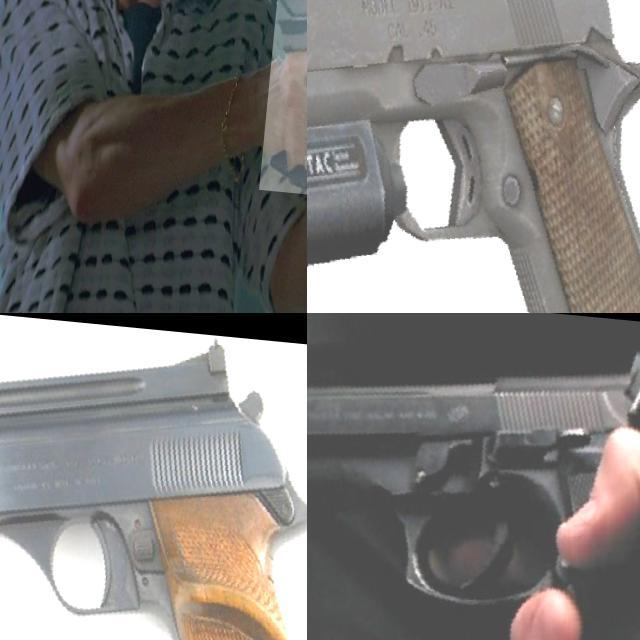gun-knife-thesis - v11 Yolov5 augmented: (307, 313, 640, 640), (307, 0, 640, 313), (0, 313, 307, 640)
